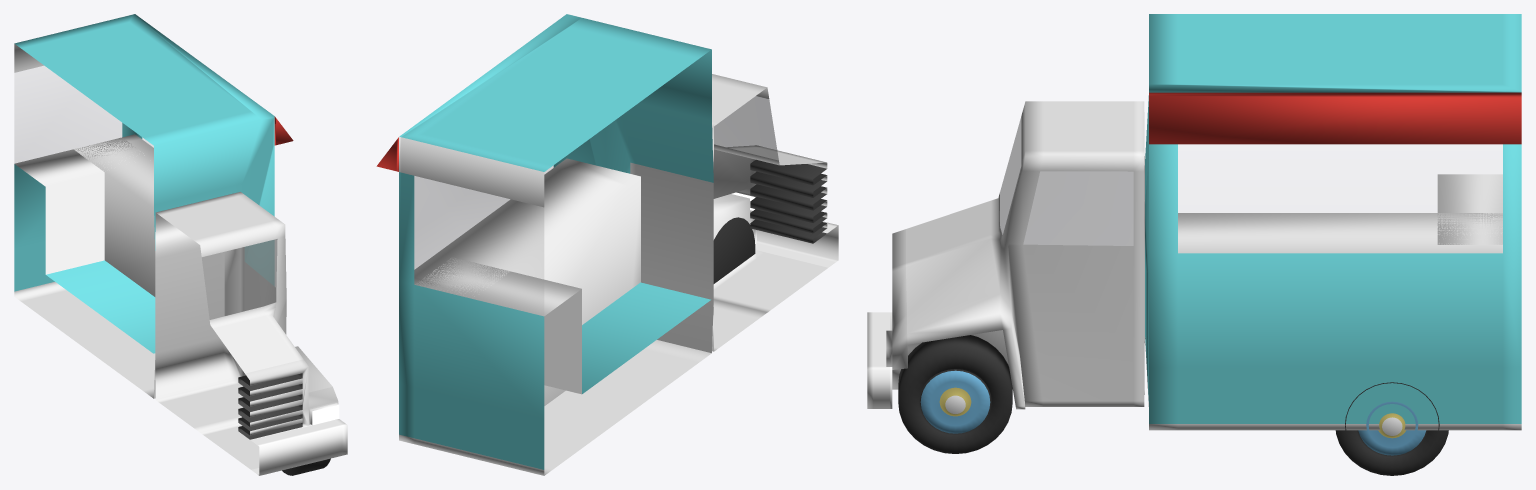
Rendered from uploads_files_3157301_cartoon+truck.glb.
3 renders of one model, left to right at view 1: azimuth 30°, elevation 25°; view 2: azimuth 150°, elevation 25°; view 3: azimuth 270°, elevation 25°, orthographic. The views are drawn at different scales.
Visible parts, largest first — view 1: Cube, Cylinder; view 2: Cube, Cylinder; view 3: Cube, Cylinder, Cylinder.002.
Boxes of the visible parts, x1,y1,x2,y2 form: Cube: [14, 14, 347, 475]; Cylinder: [282, 458, 330, 475]; Cube: [376, 14, 838, 475]; Cylinder: [713, 217, 755, 283]; Cube: [867, 14, 1521, 430]; Cylinder: [898, 335, 1012, 453]; Cylinder.002: [1335, 382, 1448, 475].
Bounding box in the file's own units: 1.16 × 2.28 × 3.51.
